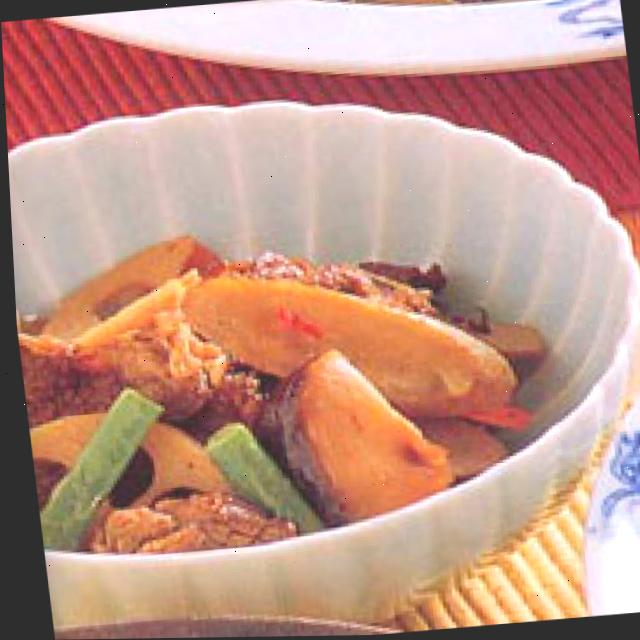鸡肉料理 含炸鸡: (6, 151, 561, 561)
